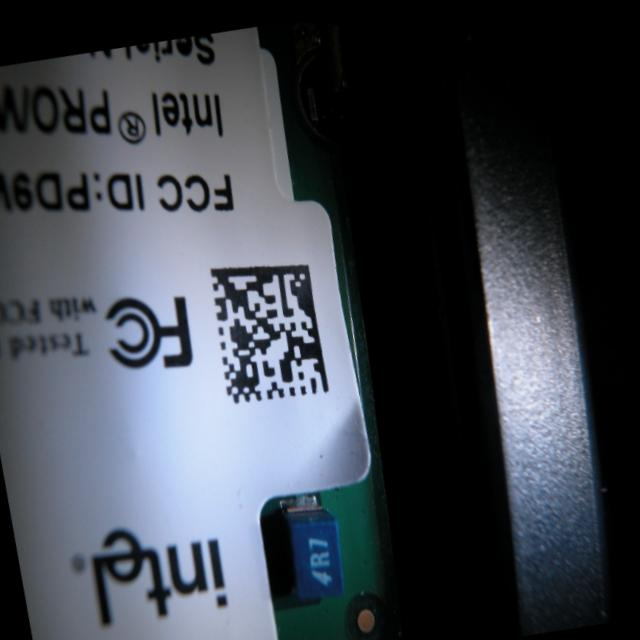datamatrix: (202, 243, 340, 409)
